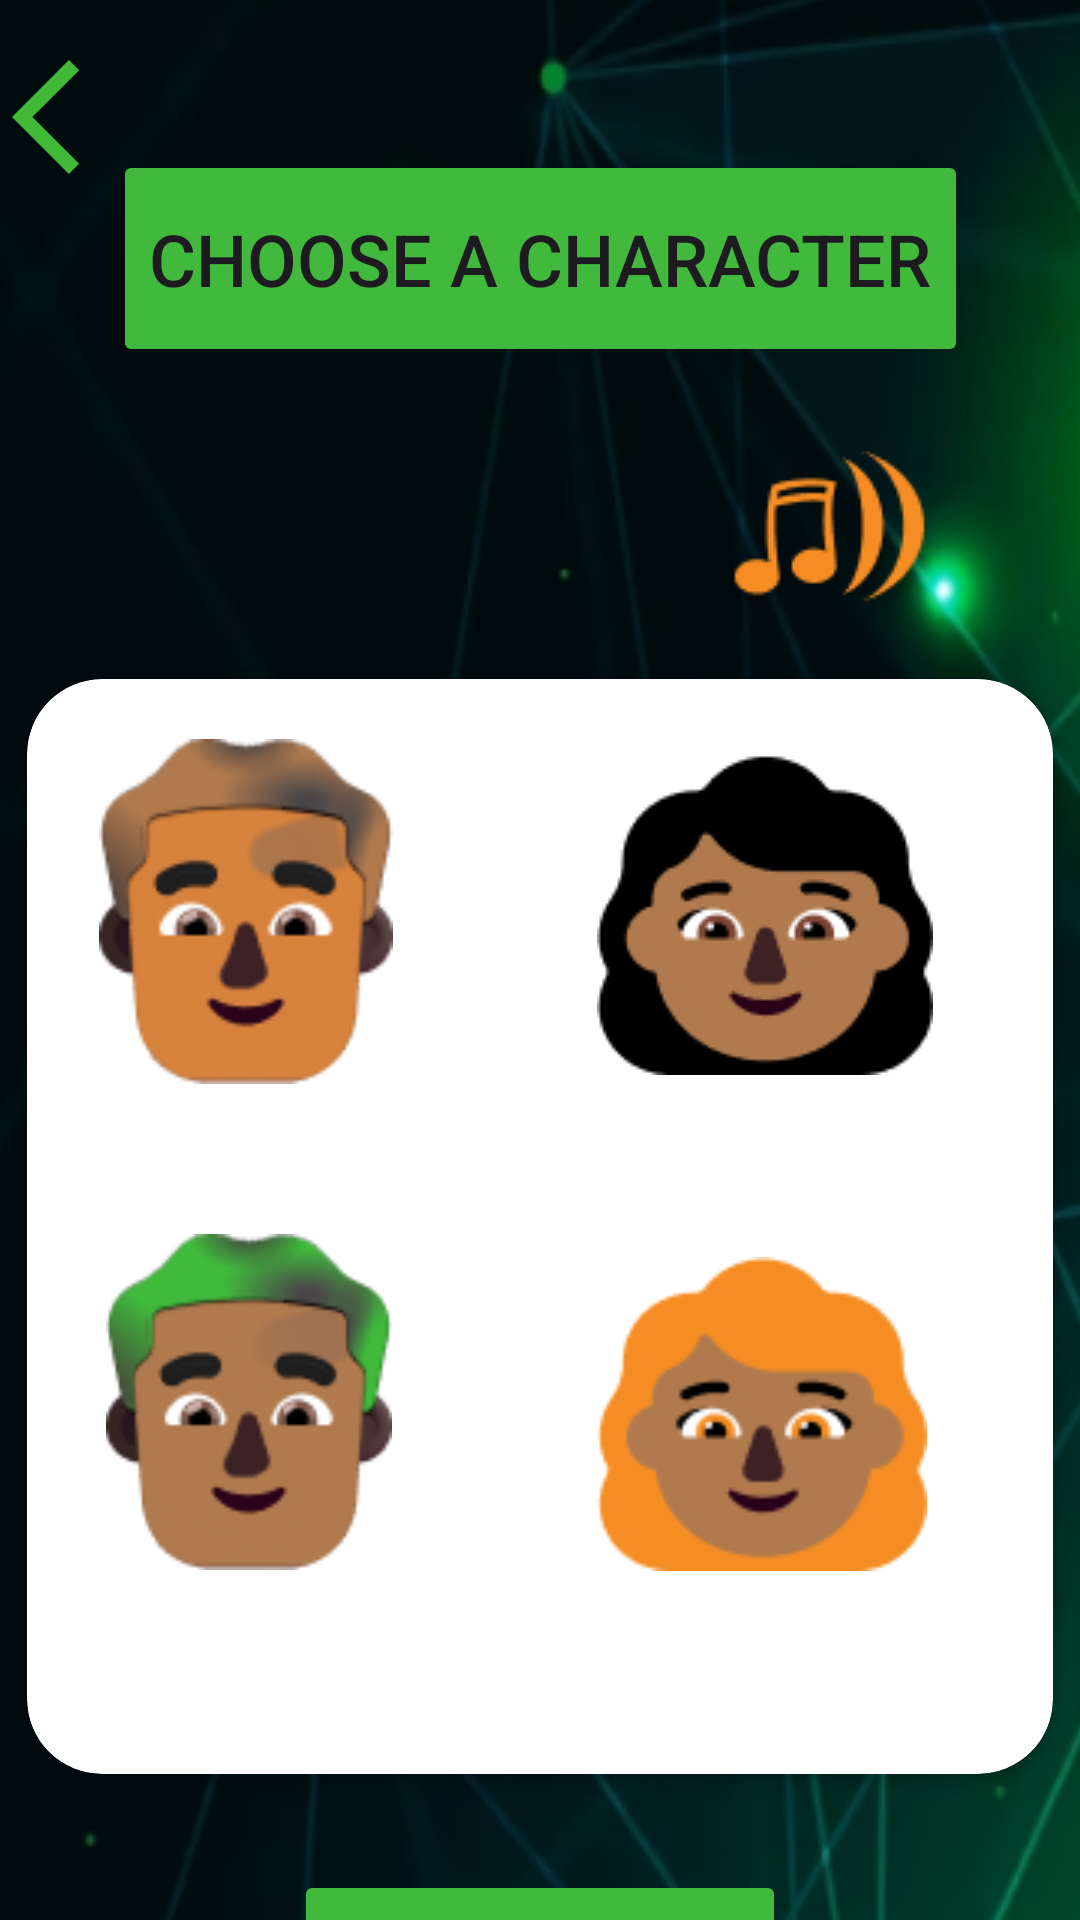

Point at icon controls on the screen. Image size 1080×1920, points as (x,y).
arrow back: (45,117)
avatarfour: (762,1414)
avatarthree: (249,1402)
avatartwo: (765,915)
music: (835,538)
